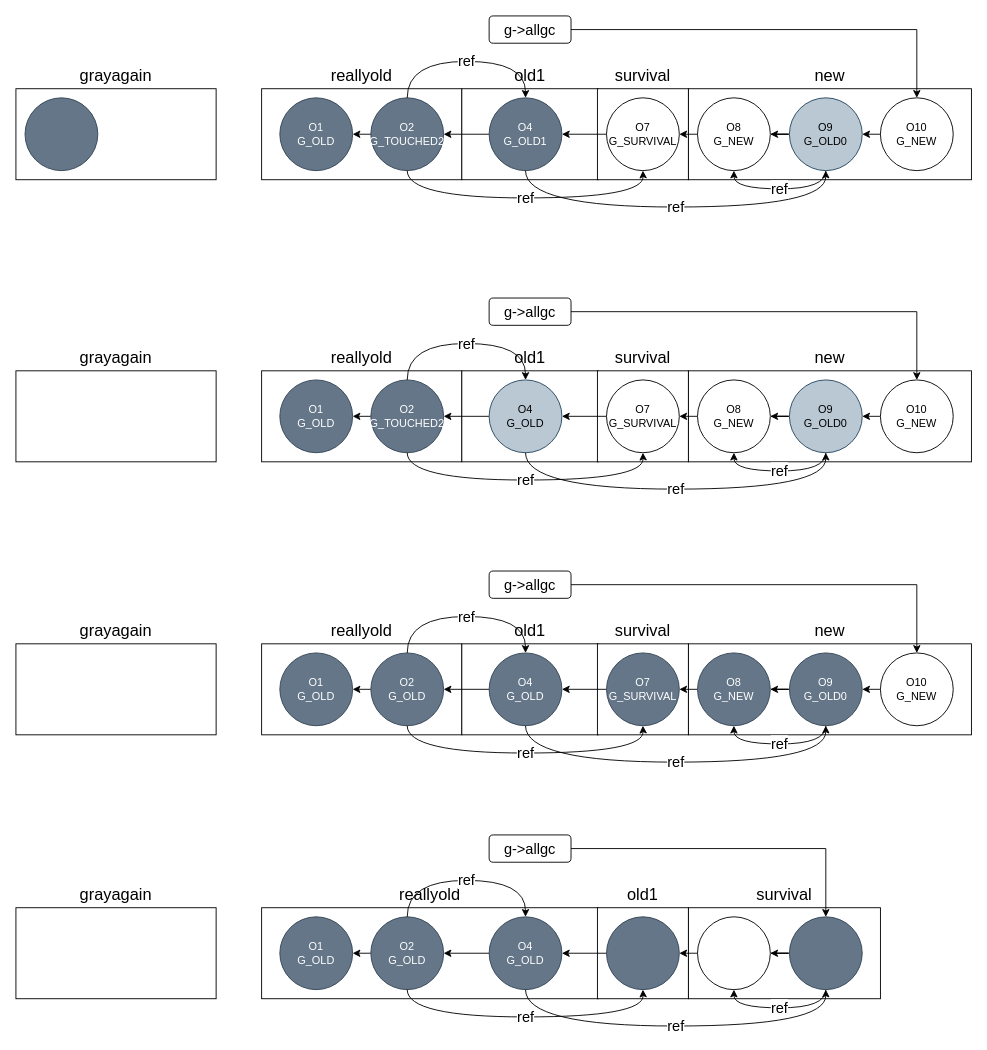
The diagram is 987 pixels wide and 1050 high, and some of its shapes have lost their labels. The shapes that lost their labels are listed below. From the top down, each one's box as (x1, y1, x2, y2) in pixels, then its label:
(24, 97, 98, 171): O2
(606, 916, 679, 990): O7 G_OLD1
(697, 916, 770, 990): O8 G_SURVIVAL
(789, 916, 862, 990): O9 G_OLD1
